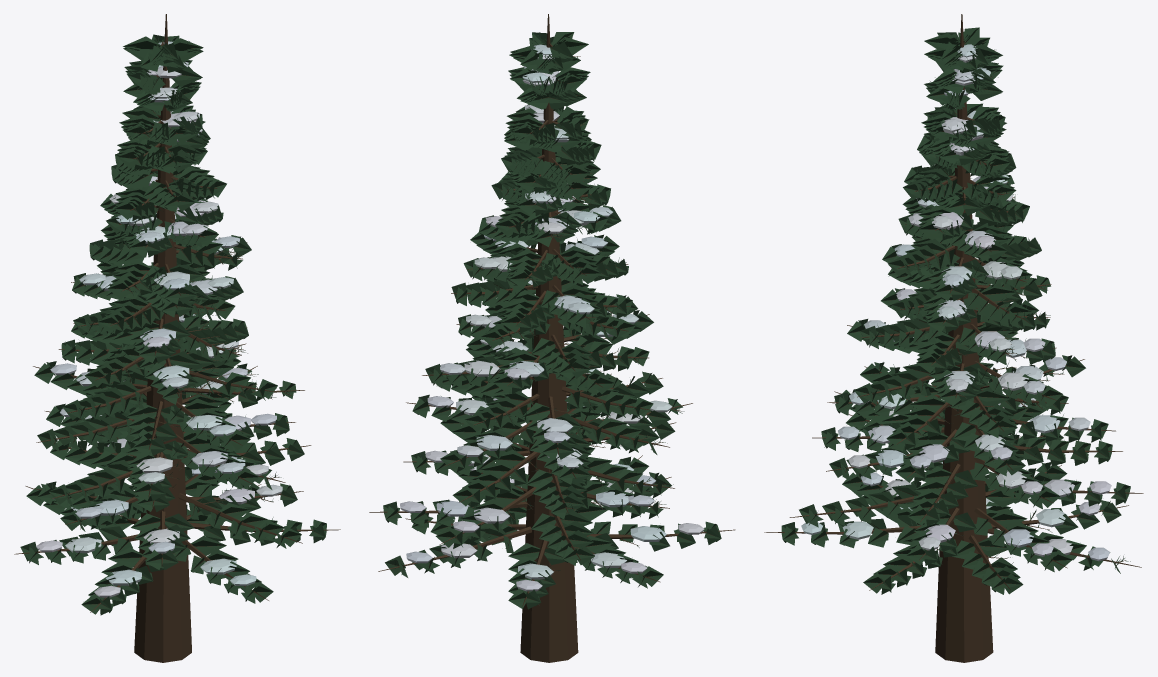
Rendered from pc_fir_3_lod0.glb.
3 views of the same model, side by side, from view 1: azimuth 30°, elevation 25°; view 2: azimuth 150°, elevation 25°; view 3: azimuth 270°, elevation 25° (orthographic).
Parts seen in each view (by area): view 1: pc_fir_3_lod0; view 2: pc_fir_3_lod0; view 3: pc_fir_3_lod0.
Boxes of the visible parts, x1=… form: pc_fir_3_lod0: x1=14, y1=14, x2=340, y2=662; pc_fir_3_lod0: x1=369, y1=14, x2=735, y2=662; pc_fir_3_lod0: x1=764, y1=14, x2=1143, y2=662.
Size of the model in its own units: 4.5 by 10.5 by 5.67.
